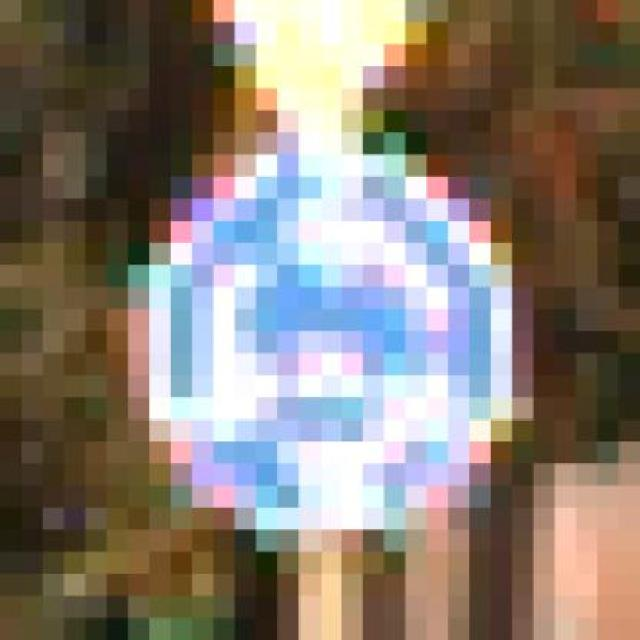Round-About: (64, 89, 576, 596)
